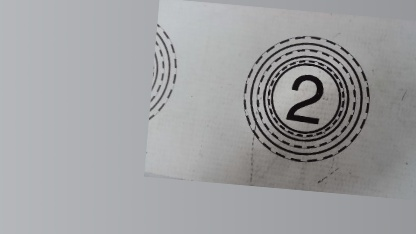2r: (236, 28, 375, 168)
